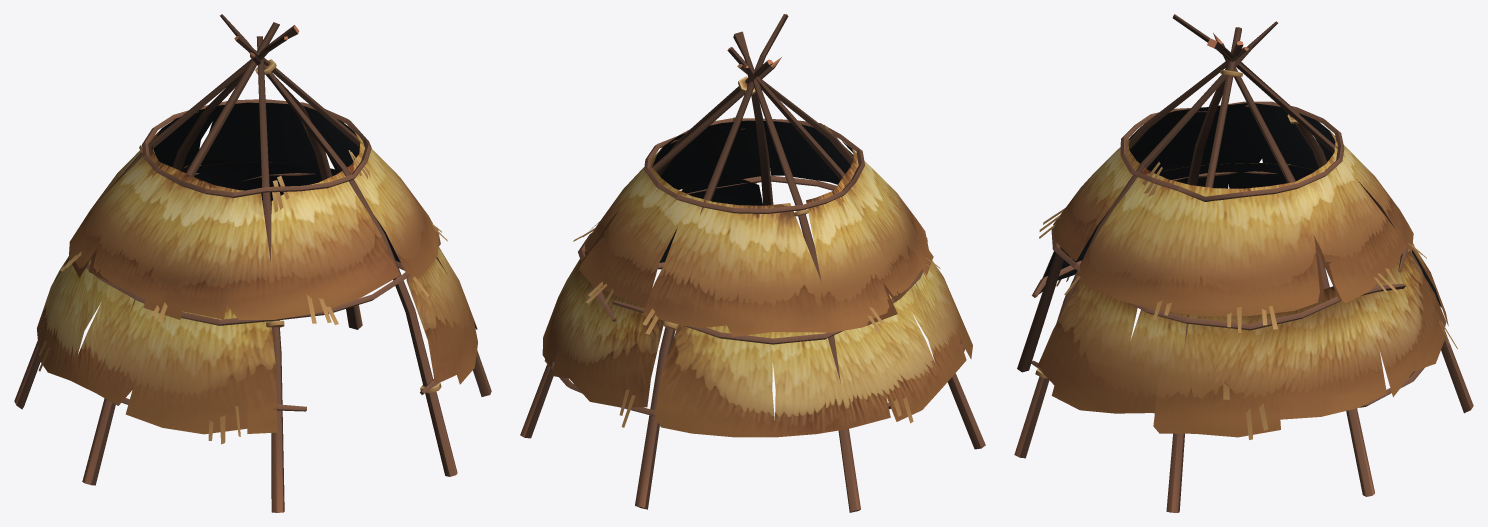
File: Hut_2B.fbx
3 views of the same model, side by side, from view 1: azimuth 30°, elevation 25°; view 2: azimuth 150°, elevation 25°; view 3: azimuth 270°, elevation 25° (orthographic). The views are drawn at different scales.
Parts seen in each view (by area): view 1: Hut_2B; view 2: Hut_2B; view 3: Hut_2B.
Boxes of the visible parts, x1=… form: Hut_2B: x1=14, y1=14, x2=491, y2=512; Hut_2B: x1=520, y1=14, x2=985, y2=512; Hut_2B: x1=1014, y1=14, x2=1473, y2=512.
Bounding box in the file's own units: 558 × 532 × 550.
